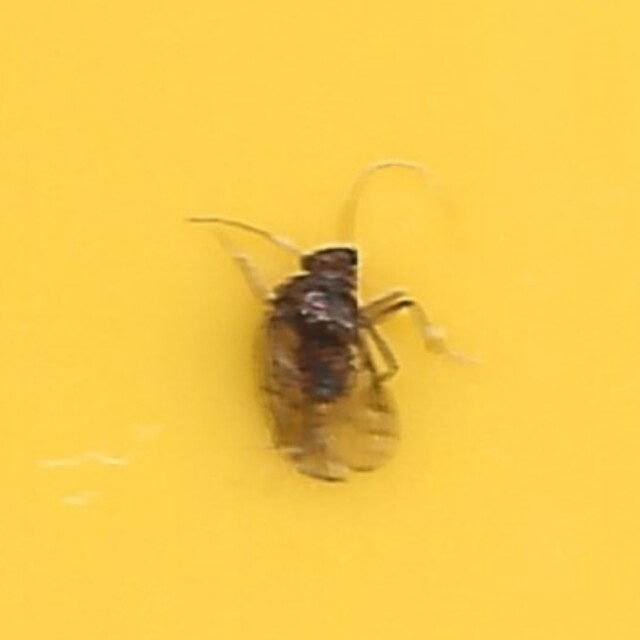Psocoptera: (181, 153, 459, 487)
